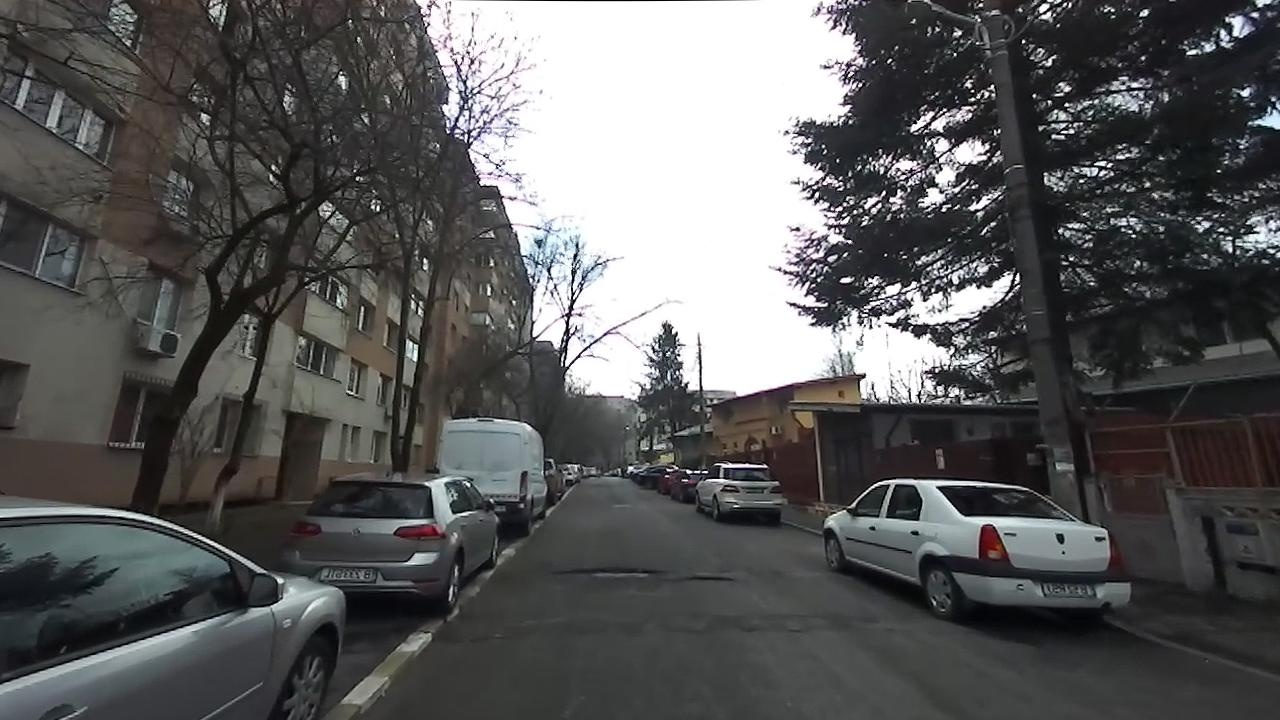pothole: (548, 564, 664, 580), (672, 572, 735, 584)
